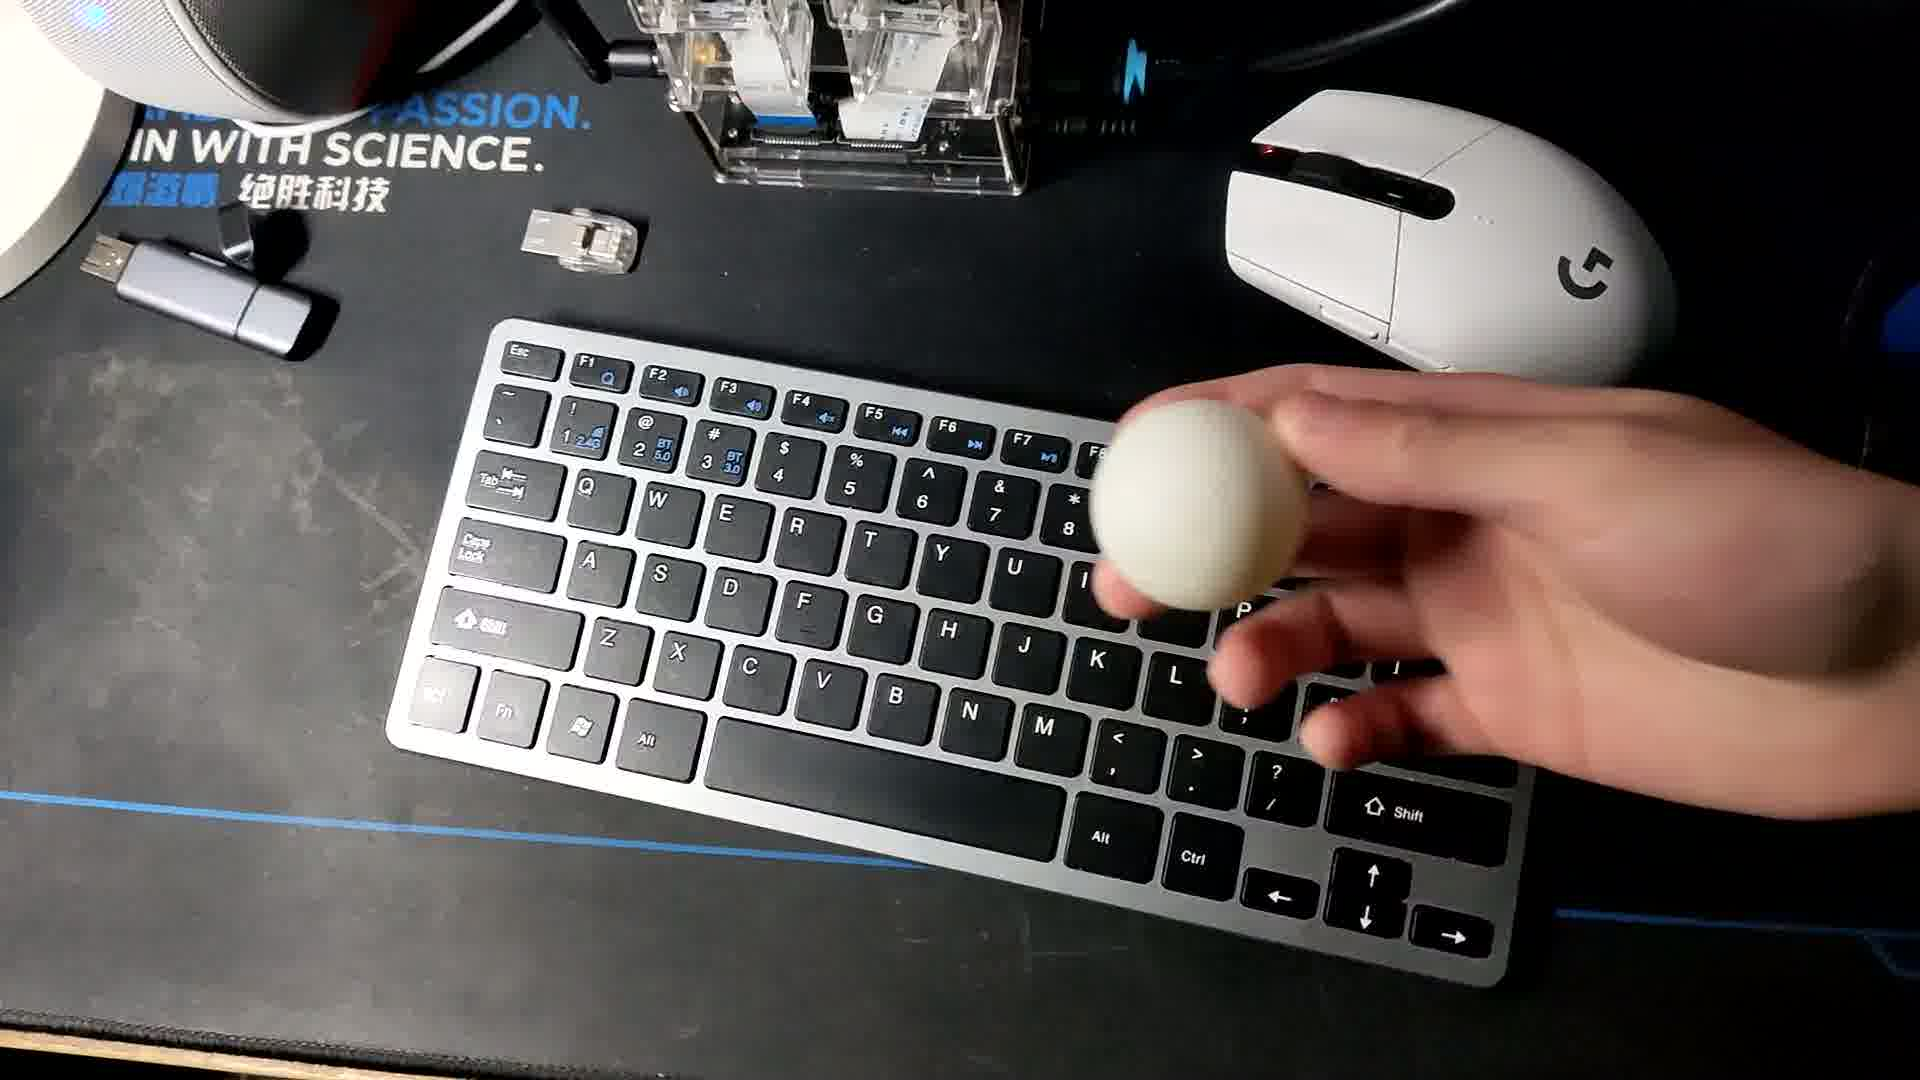Ball: (1088, 400, 1305, 608)
